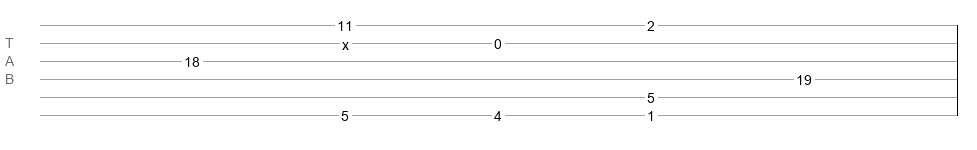0: (494, 36, 502, 46)
1: (647, 108, 655, 118)
11: (337, 18, 353, 28)
18: (184, 54, 200, 64)
19: (796, 72, 812, 82)
2: (647, 18, 655, 28)
4: (494, 108, 502, 118)
5: (341, 108, 349, 118), (647, 90, 655, 100)
x: (342, 37, 349, 45)
